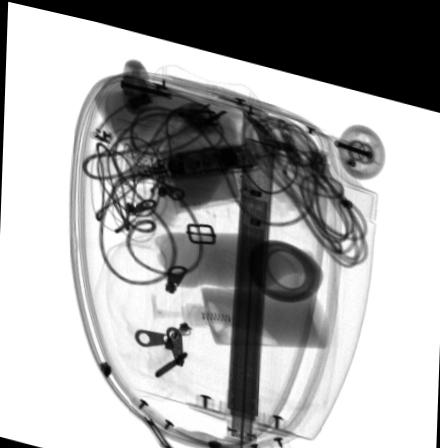Powerbank: (157, 127, 274, 204)
